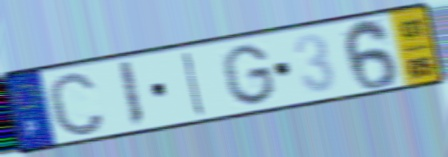3: (292, 31, 337, 96)
6: (340, 16, 402, 93)
C: (44, 68, 108, 138)
G: (219, 42, 279, 107)
I: (116, 58, 147, 130), (181, 48, 207, 119)
